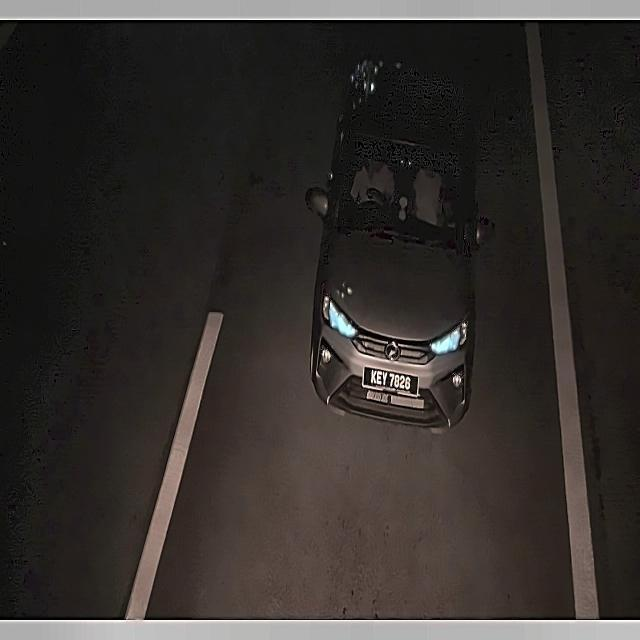car: (362, 365, 419, 396)
